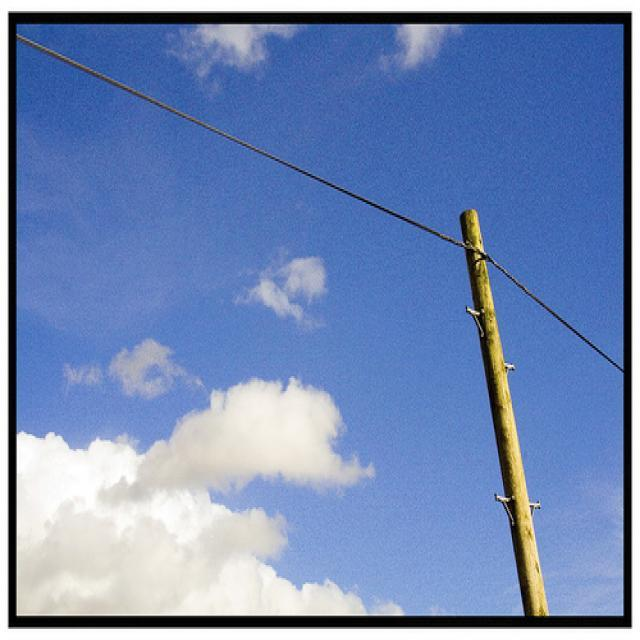pole: (460, 210, 552, 618)
wire: (22, 37, 620, 365)
